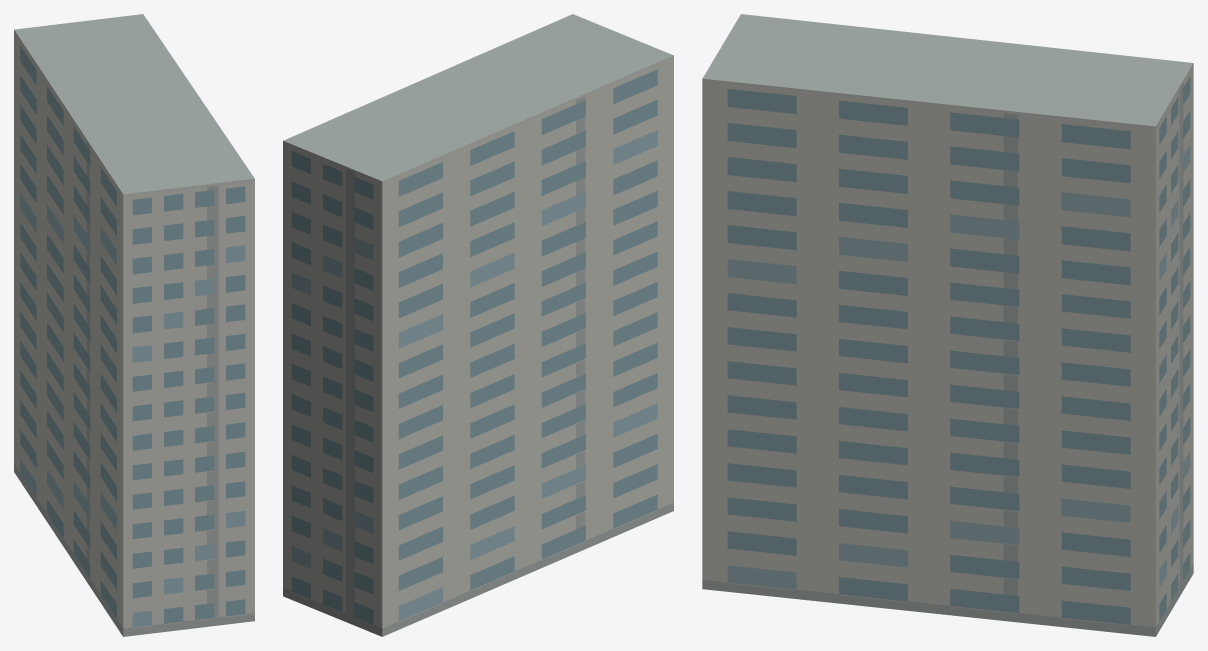
File: residential-2505b319-3aef-4600-b0c6-e6767823416c.glb
The picture shows the model from 3 angles, left to right: view 1: azimuth 30°, elevation 25°; view 2: azimuth 150°, elevation 25°; view 3: azimuth 270°, elevation 25°; orthographic projection. The views are drawn at different scales.
Visible parts, largest first — view 1: residential-2505b319-3aef-4600-b0c6-e6767823416c.tmp; view 2: residential-2505b319-3aef-4600-b0c6-e6767823416c.tmp; view 3: residential-2505b319-3aef-4600-b0c6-e6767823416c.tmp.
Part boxes in pixels (bbox=[...]): residential-2505b319-3aef-4600-b0c6-e6767823416c.tmp: bbox=[14, 14, 254, 636]; residential-2505b319-3aef-4600-b0c6-e6767823416c.tmp: bbox=[283, 14, 673, 636]; residential-2505b319-3aef-4600-b0c6-e6767823416c.tmp: bbox=[702, 14, 1193, 636].
Size of the model in its own units: 21.62 by 45.75 by 39.9.
